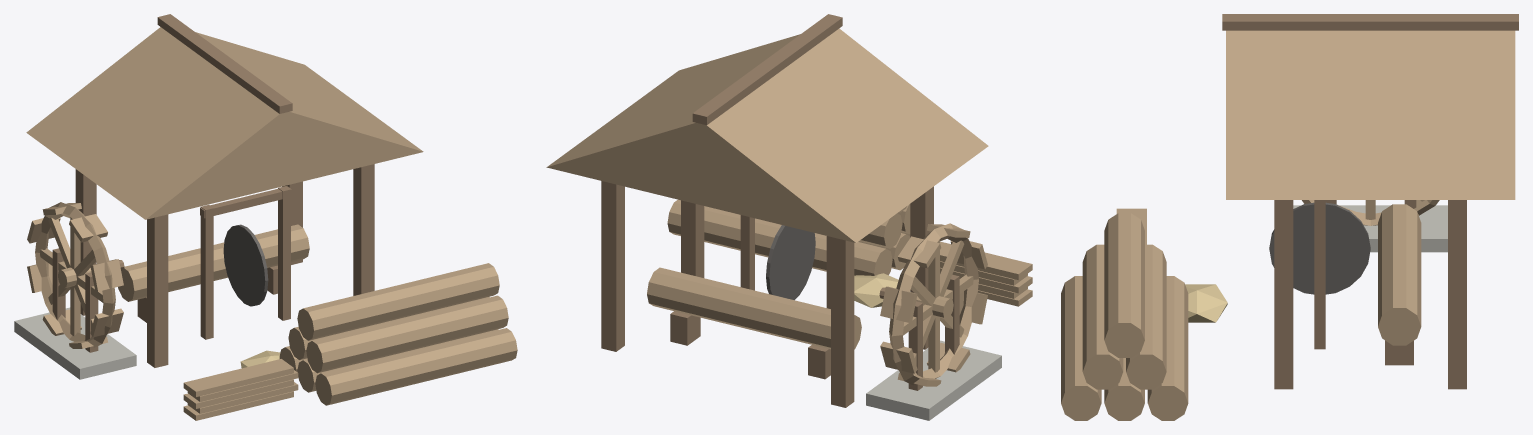
The model's file is era1-sawmill-BZw1C1tX.glb.
The picture shows the model from 3 angles, left to right: view 1: azimuth 30°, elevation 25°; view 2: azimuth 150°, elevation 25°; view 3: azimuth 270°, elevation 25°; orthographic projection. The views are drawn at different scales.
Parts seen in each view (by area): view 1: Sawmill_Roof, Sawmill_Wheel, Sawmill_StackA3, Sawmill_StackB2, Sawmill_StackC1, Sawmill_Log, Sawmill_Race, Sawmill_PostL1, Sawmill_PostR1, Sawmill_SawBlade, Sawmill_Ridge, Sawmill_PlankStack5 (+13 smaller); view 2: Sawmill_Roof, Sawmill_Wheel, Sawmill_Log, Sawmill_Race, Sawmill_StackA1, Sawmill_PostR2, Sawmill_PostL2, Sawmill_Ridge, Sawmill_SawBlade, Sawmill_PostR1, Sawmill_PostL1, Sawmill_SawPostR (+8 smaller); view 3: Sawmill_Roof, Sawmill_Log, Sawmill_StackC1, Sawmill_SawBlade, Sawmill_Ridge, Sawmill_PostR1, Sawmill_StackB2, Sawmill_StackA1, Sawmill_StackB1, Sawmill_StackA3, Sawmill_PostR2, Sawmill_SawPostR (+5 smaller).
Boxes of the visible parts, bbox=[...] form: Sawmill_Roof: bbox=[26, 27, 423, 219]; Sawmill_Wheel: bbox=[27, 202, 123, 348]; Sawmill_StackA3: bbox=[315, 328, 517, 405]; Sawmill_StackB2: bbox=[306, 295, 508, 373]; Sawmill_StackC1: bbox=[297, 263, 499, 340]; Sawmill_Log: bbox=[118, 224, 309, 301]; Sawmill_Race: bbox=[14, 307, 136, 379]; Sawmill_PostL1: bbox=[147, 214, 168, 367]; Sawmill_PostR1: bbox=[353, 164, 374, 295]; Sawmill_SawBlade: bbox=[223, 224, 268, 306]; Sawmill_Ridge: bbox=[157, 14, 292, 113]; Sawmill_PlankStack5: bbox=[183, 359, 293, 396]; Sawmill_Roof: bbox=[546, 28, 988, 242]; Sawmill_Wheel: bbox=[880, 223, 987, 386]; Sawmill_Log: bbox=[647, 267, 861, 349]; Sawmill_Race: bbox=[866, 340, 1001, 420]; Sawmill_StackA1: bbox=[667, 199, 892, 275]; Sawmill_PostR2: bbox=[601, 181, 624, 351]; Sawmill_PostL2: bbox=[831, 237, 854, 407]; Sawmill_Ridge: bbox=[692, 14, 842, 125]; Sawmill_SawBlade: bbox=[766, 225, 815, 300]; Sawmill_PostR1: bbox=[681, 200, 704, 277]; Sawmill_PostL1: bbox=[910, 186, 933, 349]; Sawmill_SawPostR: bbox=[740, 215, 754, 290]; Sawmill_Roof: bbox=[1226, 30, 1515, 199]; Sawmill_Log: bbox=[1378, 204, 1421, 345]; Sawmill_StackC1: bbox=[1104, 213, 1144, 357]; Sawmill_SawBlade: bbox=[1269, 202, 1370, 294]; Sawmill_Ridge: bbox=[1222, 14, 1518, 30]; Sawmill_PostR1: bbox=[1274, 200, 1293, 389]; Sawmill_StackB2: bbox=[1082, 244, 1123, 389]; Sawmill_StackA1: bbox=[1147, 276, 1188, 420]; Sawmill_StackB1: bbox=[1126, 244, 1166, 389]; Sawmill_StackA3: bbox=[1061, 276, 1101, 420]; Sawmill_PostR2: bbox=[1448, 200, 1466, 389]; Sawmill_SawPostR: bbox=[1314, 200, 1325, 349].
Bounding box in the file's own units: 6.65 × 4.79 × 6.33.
